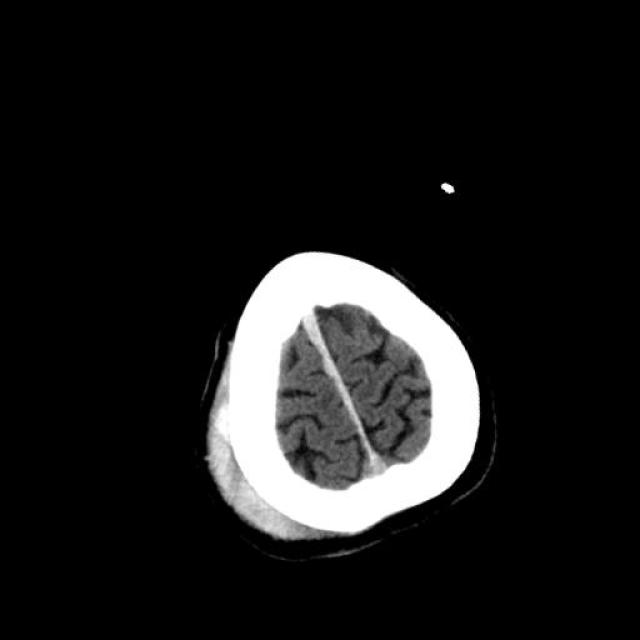Subdural: (286, 287, 414, 488)
